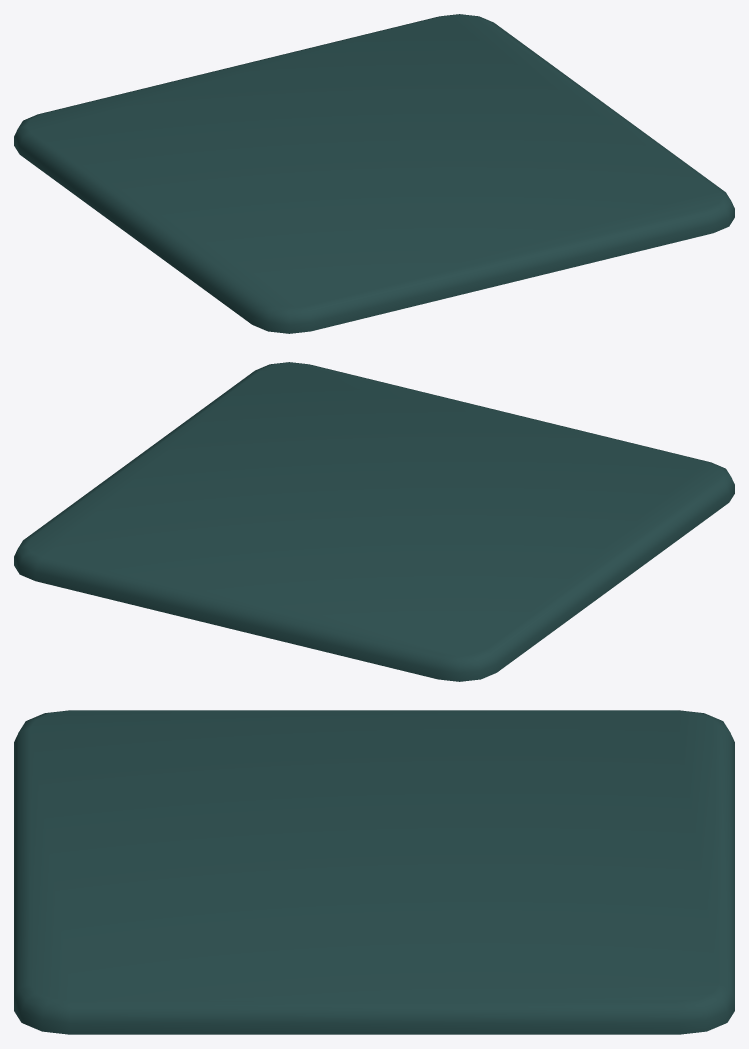
File: cell_default.glb
The picture shows the model from 3 angles, top to bottom: view 1: azimuth 30°, elevation 25°; view 2: azimuth 150°, elevation 25°; view 3: azimuth 270°, elevation 25°; orthographic projection. The views are drawn at different scales.
Visible parts, largest first — view 1: cell_default; view 2: cell_default; view 3: cell_default.
Part boxes in pixels (x1=…): cell_default: x1=14, y1=14, x2=734, y2=333; cell_default: x1=14, y1=362, x2=734, y2=681; cell_default: x1=14, y1=710, x2=734, y2=1034.
Bounding box in the file's own units: 1 × 0.04 × 1.
1 material, 1 textured.
